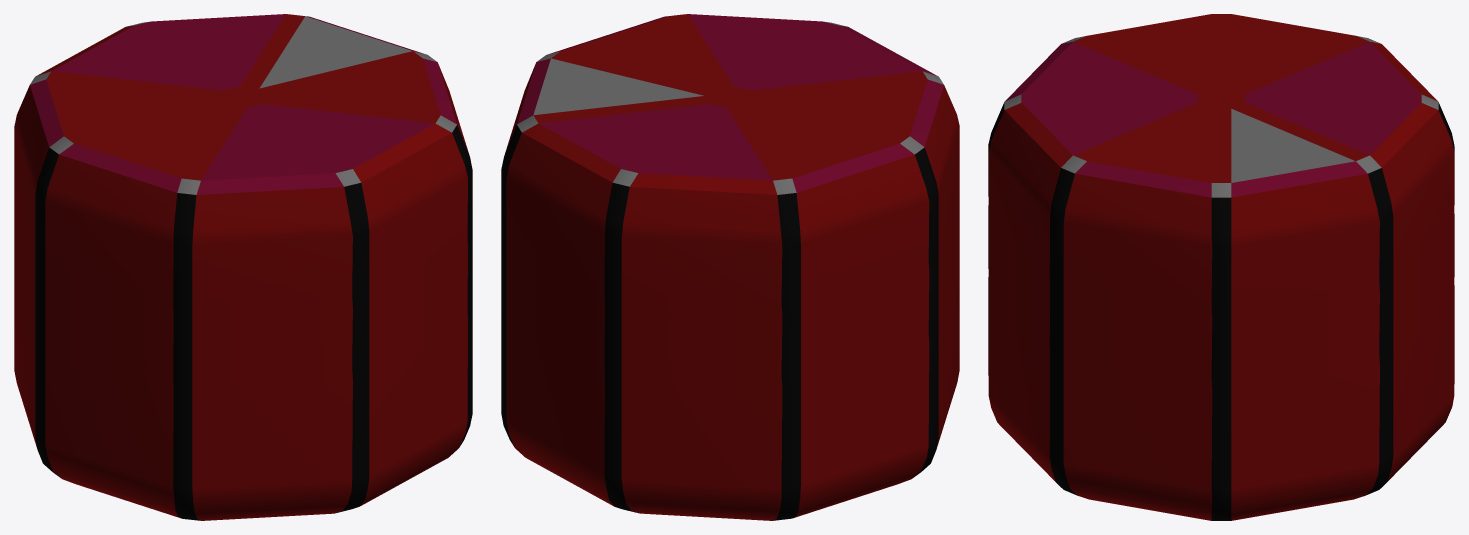
Rendered from Trashcan.fbx.
3 renders of one model, left to right at view 1: azimuth 30°, elevation 25°; view 2: azimuth 150°, elevation 25°; view 3: azimuth 270°, elevation 25°, orthographic.
Visible parts, largest first — view 1: Trashcan; view 2: Trashcan; view 3: Trashcan.
Part boxes in pixels (x1,y1,x2,y2): Trashcan: [14, 14, 472, 520]; Trashcan: [501, 14, 959, 520]; Trashcan: [988, 14, 1454, 520].
Bounding box in the file's own units: 197 × 160 × 197.
